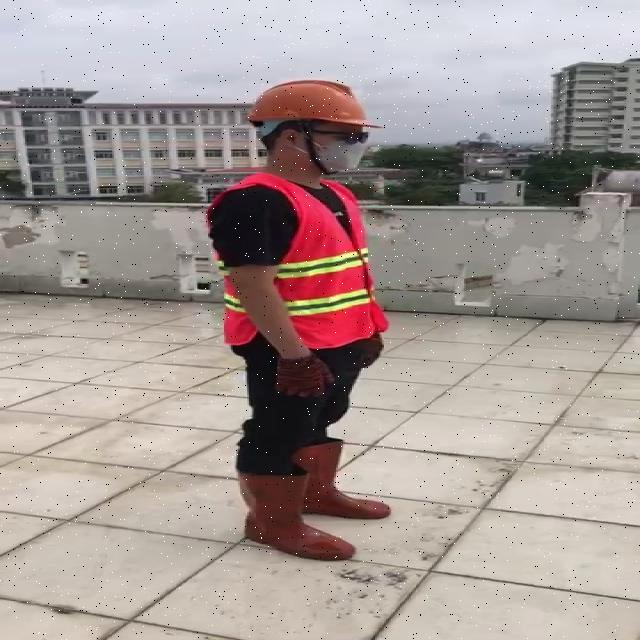Hard_hat: (237, 75, 386, 142)
Vest: (265, 171, 371, 345)
